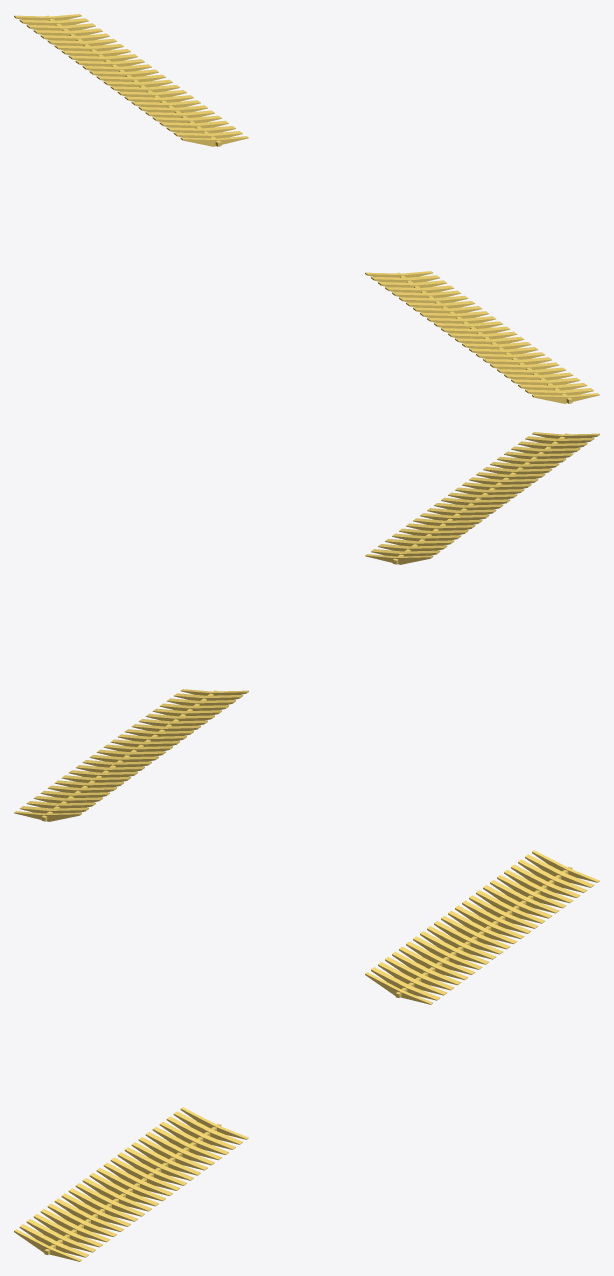
Rendered from jiandanqi_02.FBX.
The picture shows the model from 3 angles, top to bottom: view 1: azimuth 30°, elevation 25°; view 2: azimuth 150°, elevation 25°; view 3: azimuth 330°, elevation 25°; orthographic projection.
Visible parts, largest first — view 1: jiandanqi_02_1, jiandanqi_02; view 2: jiandanqi_02, jiandanqi_02_1; view 3: jiandanqi_02, jiandanqi_02_1.
Boxes of the visible parts, x1=… form: jiandanqi_02_1: x1=14, y1=14, x2=248, y2=146; jiandanqi_02: x1=365, y1=271, x2=599, y2=403; jiandanqi_02: x1=365, y1=432, x2=599, y2=564; jiandanqi_02_1: x1=14, y1=689, x2=248, y2=821; jiandanqi_02: x1=14, y1=1107, x2=248, y2=1261; jiandanqi_02_1: x1=365, y1=850, x2=599, y2=1004.
Size of the model in its own units: 26.78 by 5.88 by 369.
